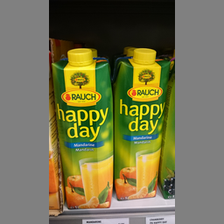juice: (53, 47, 115, 209), (112, 50, 170, 200)
